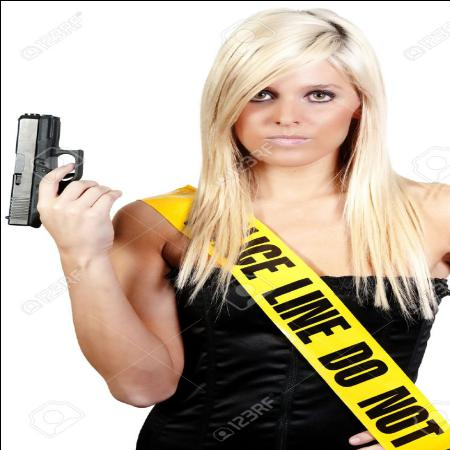Pistol: (2, 108, 96, 227)
